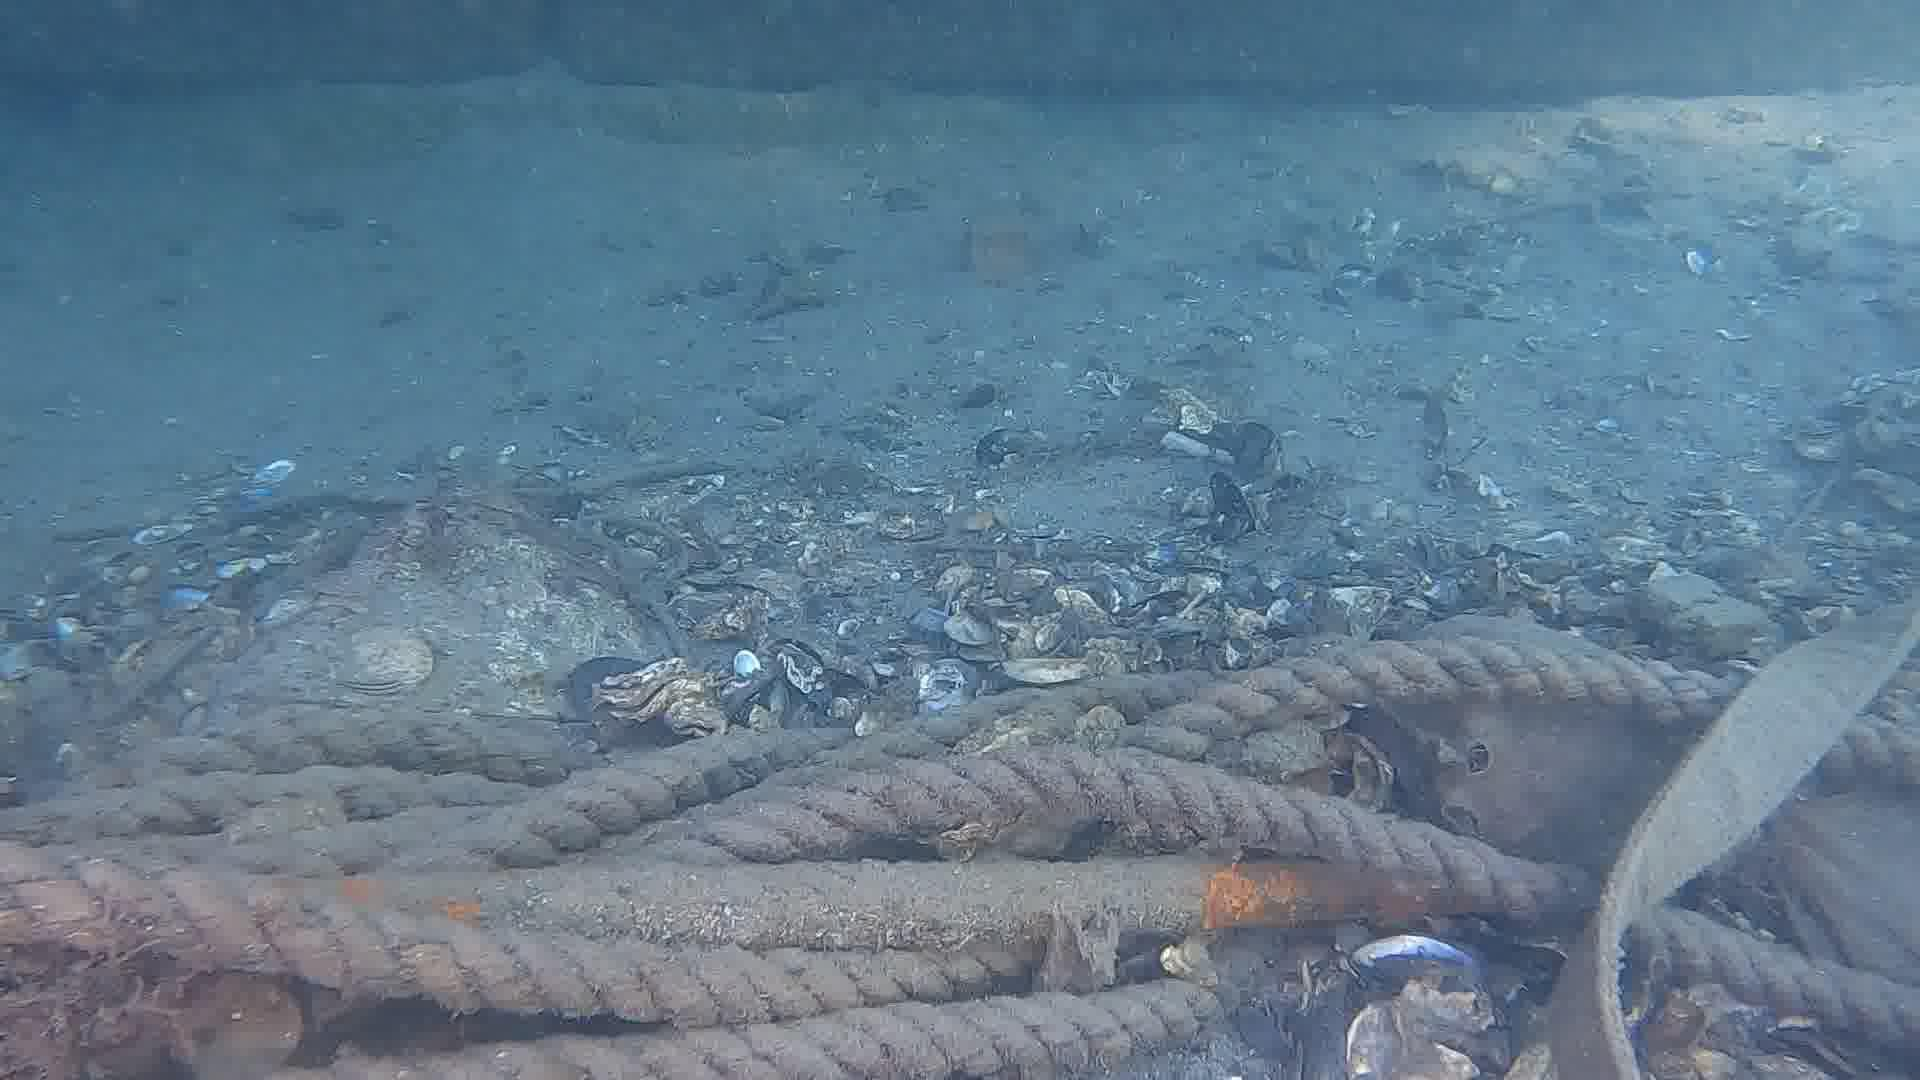bundle of ropes: (0, 634, 1920, 1080)
